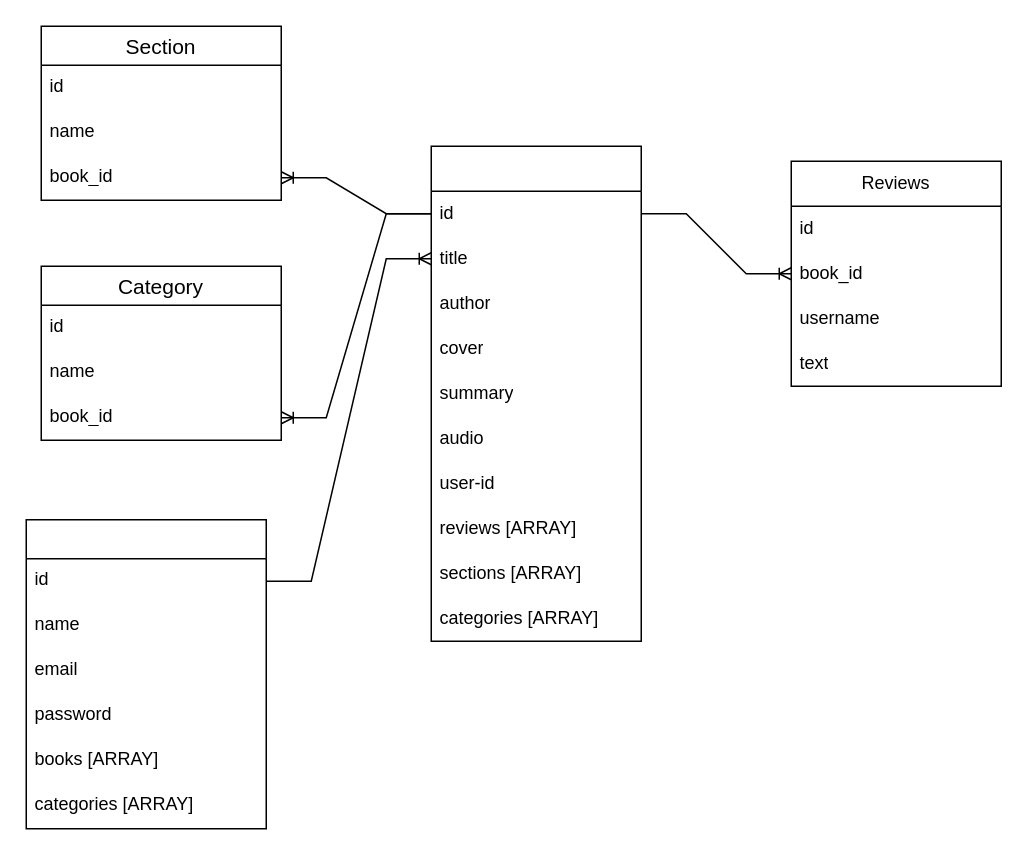
Image size: 1028x860. Some labels were removed from this diagram. The box of each missing label's shape, as (x1, y1, x2, y2) in pixels:
Book: (430, 145, 641, 641)
Users: (25, 518, 266, 829)
